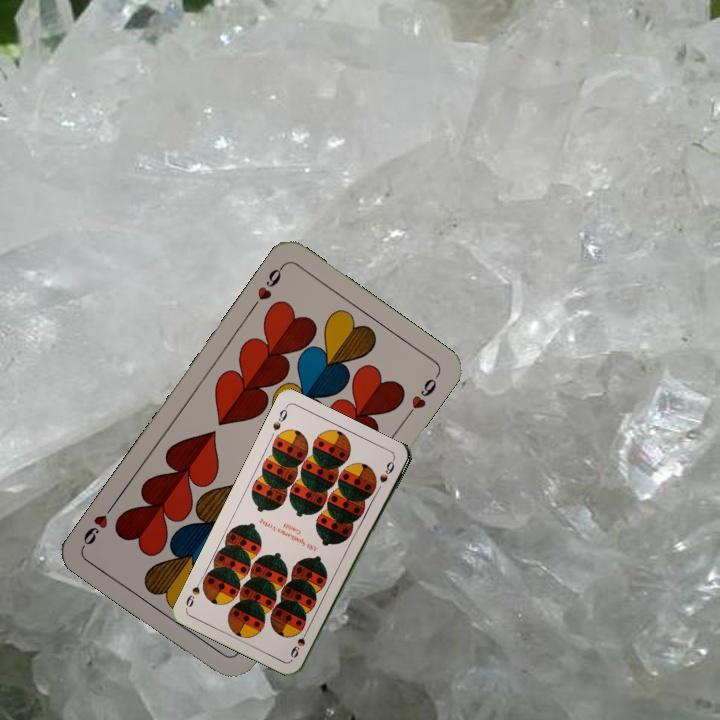H9: (247, 261, 287, 312)
S9: (287, 623, 312, 661), (269, 403, 290, 433)
